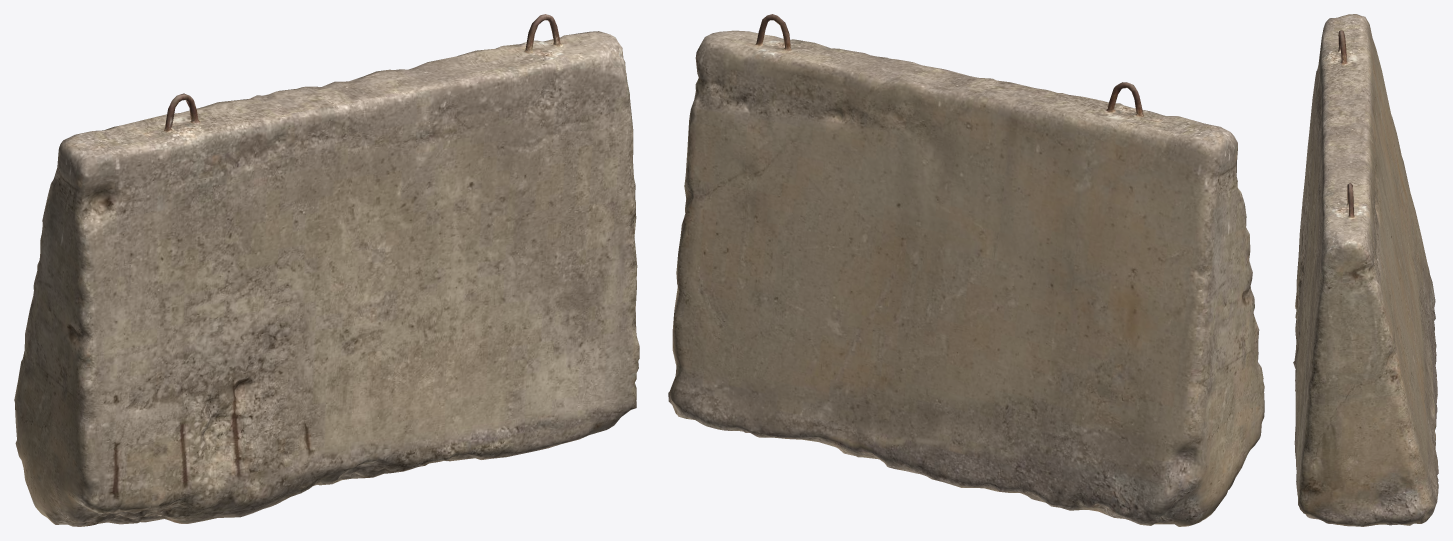
File: concrete_barrier.glb
3 views of the same model, side by side, from view 1: azimuth 30°, elevation 25°; view 2: azimuth 150°, elevation 25°; view 3: azimuth 270°, elevation 25° (orthographic). The views are drawn at different scales.
Visible parts, largest first — view 1: concrete_road_barrier_02_LOD2; view 2: concrete_road_barrier_02_LOD2; view 3: concrete_road_barrier_02_LOD2.
Part boxes in pixels (left/top/right/bottom): concrete_road_barrier_02_LOD2: left=14, top=14, right=639, bottom=526; concrete_road_barrier_02_LOD2: left=668, top=14, right=1264, bottom=526; concrete_road_barrier_02_LOD2: left=1293, top=14, right=1438, bottom=526.
Size of the model in its own units: 1.57 by 1.11 by 0.4421.
Materials: 1 (1 with a texture image).
